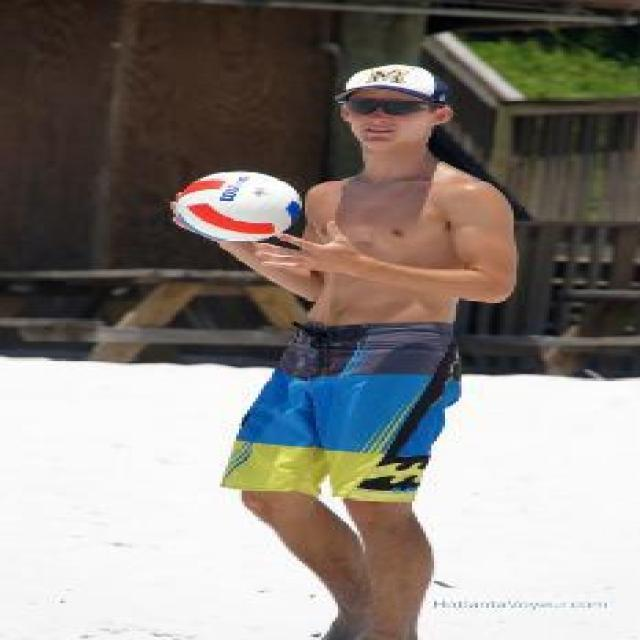volleyball: (176, 172, 300, 242)
